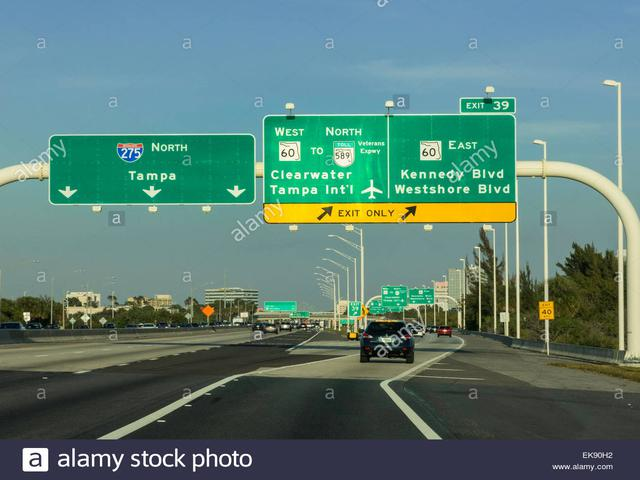autre: (265, 115, 517, 220), (52, 136, 255, 204), (382, 286, 407, 313), (265, 300, 297, 311), (350, 300, 362, 319)
